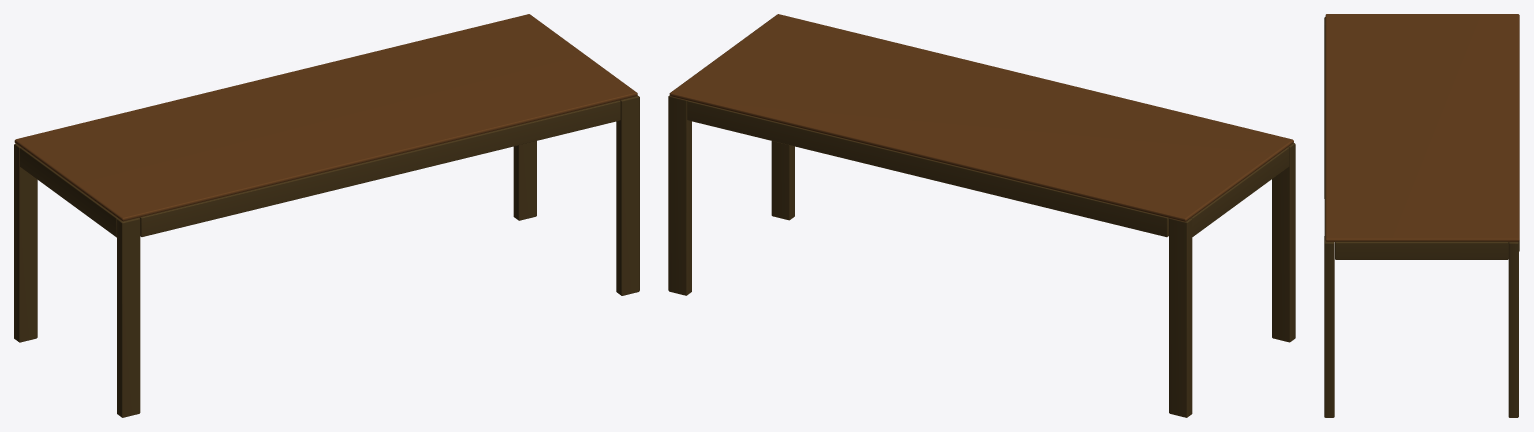
The model's file is Workbench_wood.fbx.
3 renders of one model, left to right at view 1: azimuth 30°, elevation 25°; view 2: azimuth 150°, elevation 25°; view 3: azimuth 270°, elevation 25°, orthographic. The views are drawn at different scales.
Visible parts, largest first — view 1: Object002; view 2: Object002; view 3: Object002.
Part boxes in pixels (box(x1,y1,x2,y2)): Object002: box(14, 14, 639, 417); Object002: box(668, 14, 1295, 417); Object002: box(1324, 14, 1519, 417).
Size of the model in its own units: 207 by 76.19 by 75.43.
